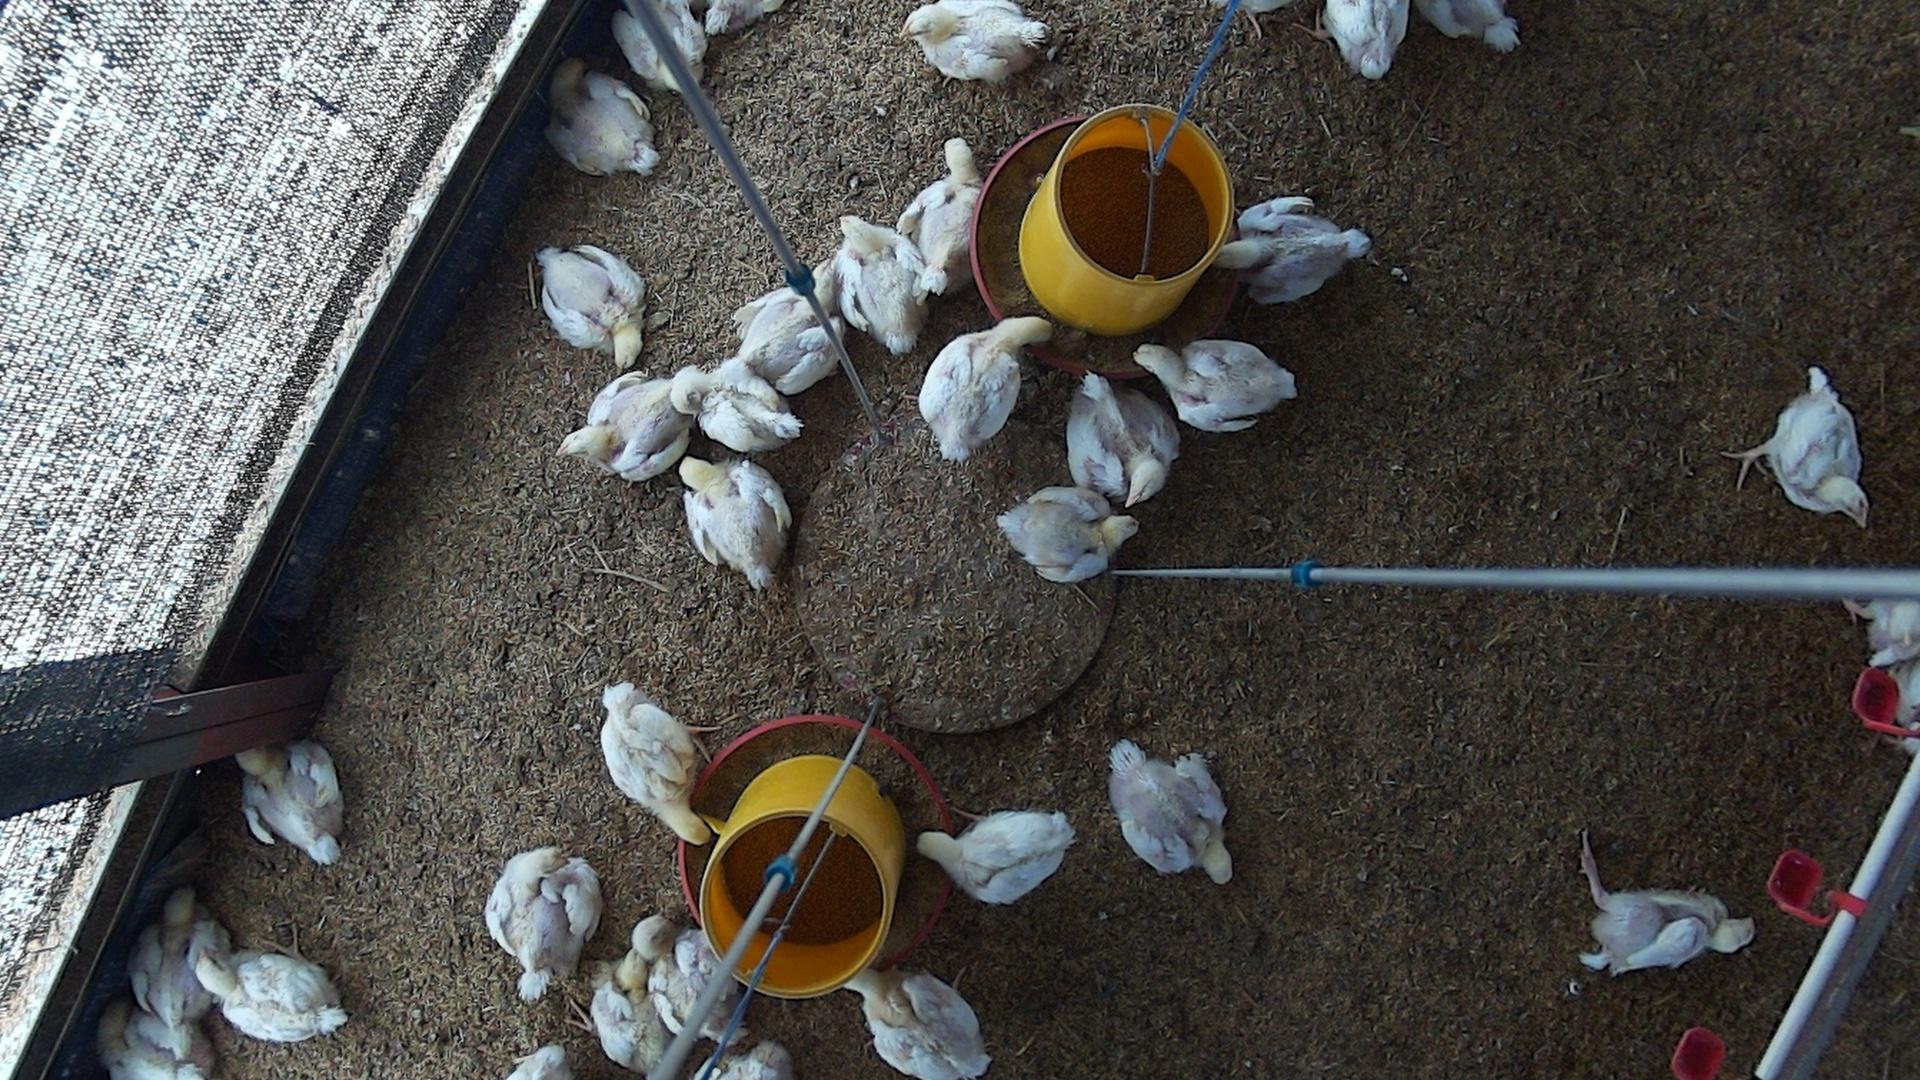ayam_broiler: (1577, 828, 1755, 977), (918, 316, 1048, 460), (1746, 367, 1866, 520), (1215, 195, 1370, 307), (1109, 740, 1230, 884), (484, 849, 599, 1001), (191, 934, 348, 1042), (601, 683, 705, 840), (562, 367, 707, 479), (729, 257, 844, 394), (633, 914, 749, 1044), (851, 972, 990, 1080), (1067, 373, 1182, 504), (916, 810, 1076, 903), (1133, 339, 1295, 430), (680, 456, 790, 588), (128, 886, 229, 1027), (994, 484, 1139, 580), (897, 137, 984, 293), (567, 947, 675, 1071), (829, 214, 927, 351), (539, 244, 645, 369), (237, 742, 343, 862), (670, 359, 802, 454), (549, 67, 657, 174), (905, 0, 1044, 79), (95, 998, 214, 1079), (613, 3, 705, 99), (1324, 0, 1410, 78), (1420, 0, 1520, 51)
